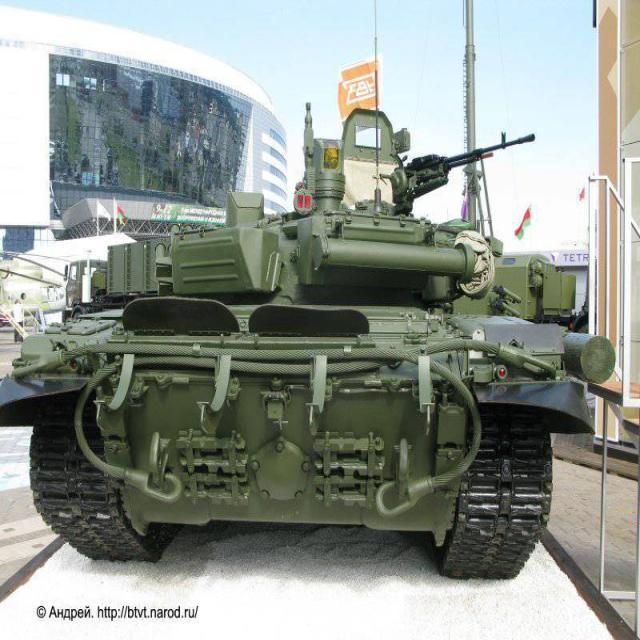north tank: (6, 48, 633, 592)
